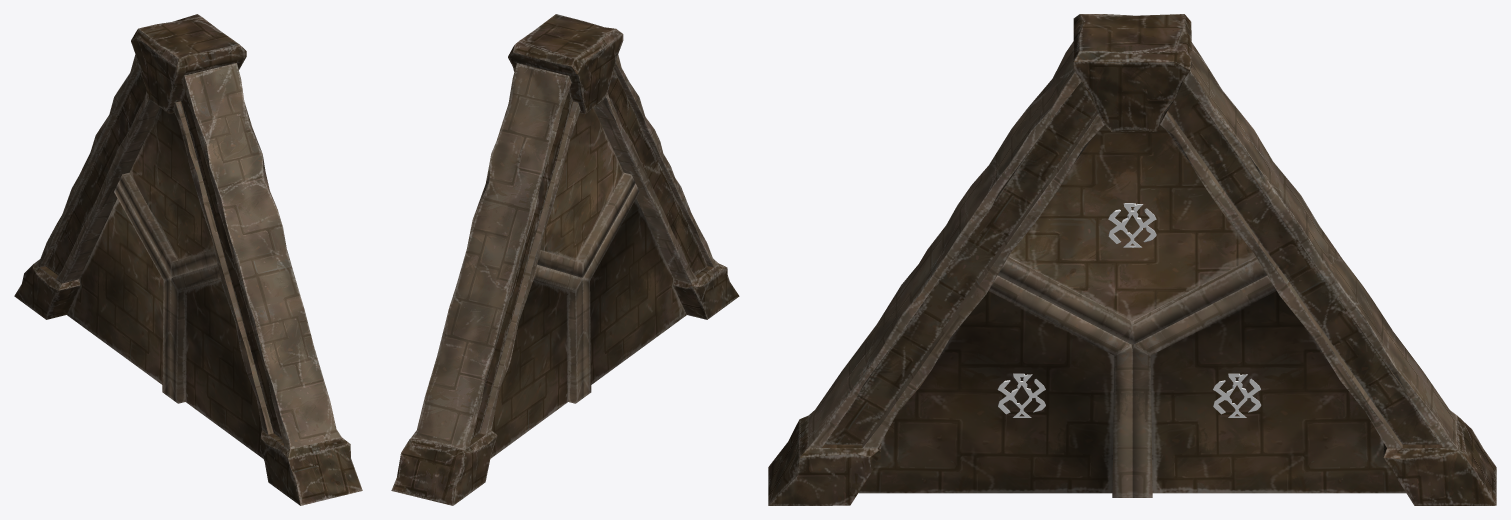
File: Modelo ruinas.fbx
3 renders of one model, left to right at view 1: azimuth 30°, elevation 25°; view 2: azimuth 150°, elevation 25°; view 3: azimuth 270°, elevation 25°, orthographic. The views are drawn at different scales.
Parts seen in each view (by area): view 1: puerta baja, puerta2.2 low.001, puerta2.2 low.002, puerta2.1 low.001; view 2: puerta baja, puerta2.2 low.002, puerta2.2 low.001, puerta2.1 low.001; view 3: puerta baja, puerta2.2 low.002, puerta2.2 low.001, puerta2.1 low.001, runa jefe.003, runa jefe.005, runa jefe.004.
Part boxes in pixels (x1,y1,x2,y2): puerta baja: (14,14,362,505); puerta2.2 low.001: (67,183,172,397); puerta2.2 low.002: (170,264,263,458); puerta2.1 low.001: (118,107,217,277); puerta baja: (391,14,739,505); puerta2.2 low.002: (581,183,686,397); puerta2.2 low.001: (490,264,583,458); puerta2.1 low.001: (537,107,635,277); puerta baja: (768,14,1496,505); puerta2.2 low.002: (858,275,1132,497); puerta2.2 low.001: (1132,275,1405,497); puerta2.1 low.001: (998,125,1266,344); runa jefe.003: (1108,203,1156,247); runa jefe.005: (997,373,1045,417); runa jefe.004: (1213,373,1261,417).
Bounding box in the file's own units: 43.78 × 213 × 310.
3 materials, 3 textured.
